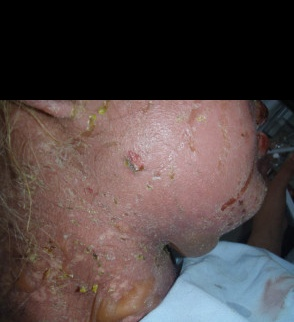SJS-TEN: (0, 99, 284, 322)
